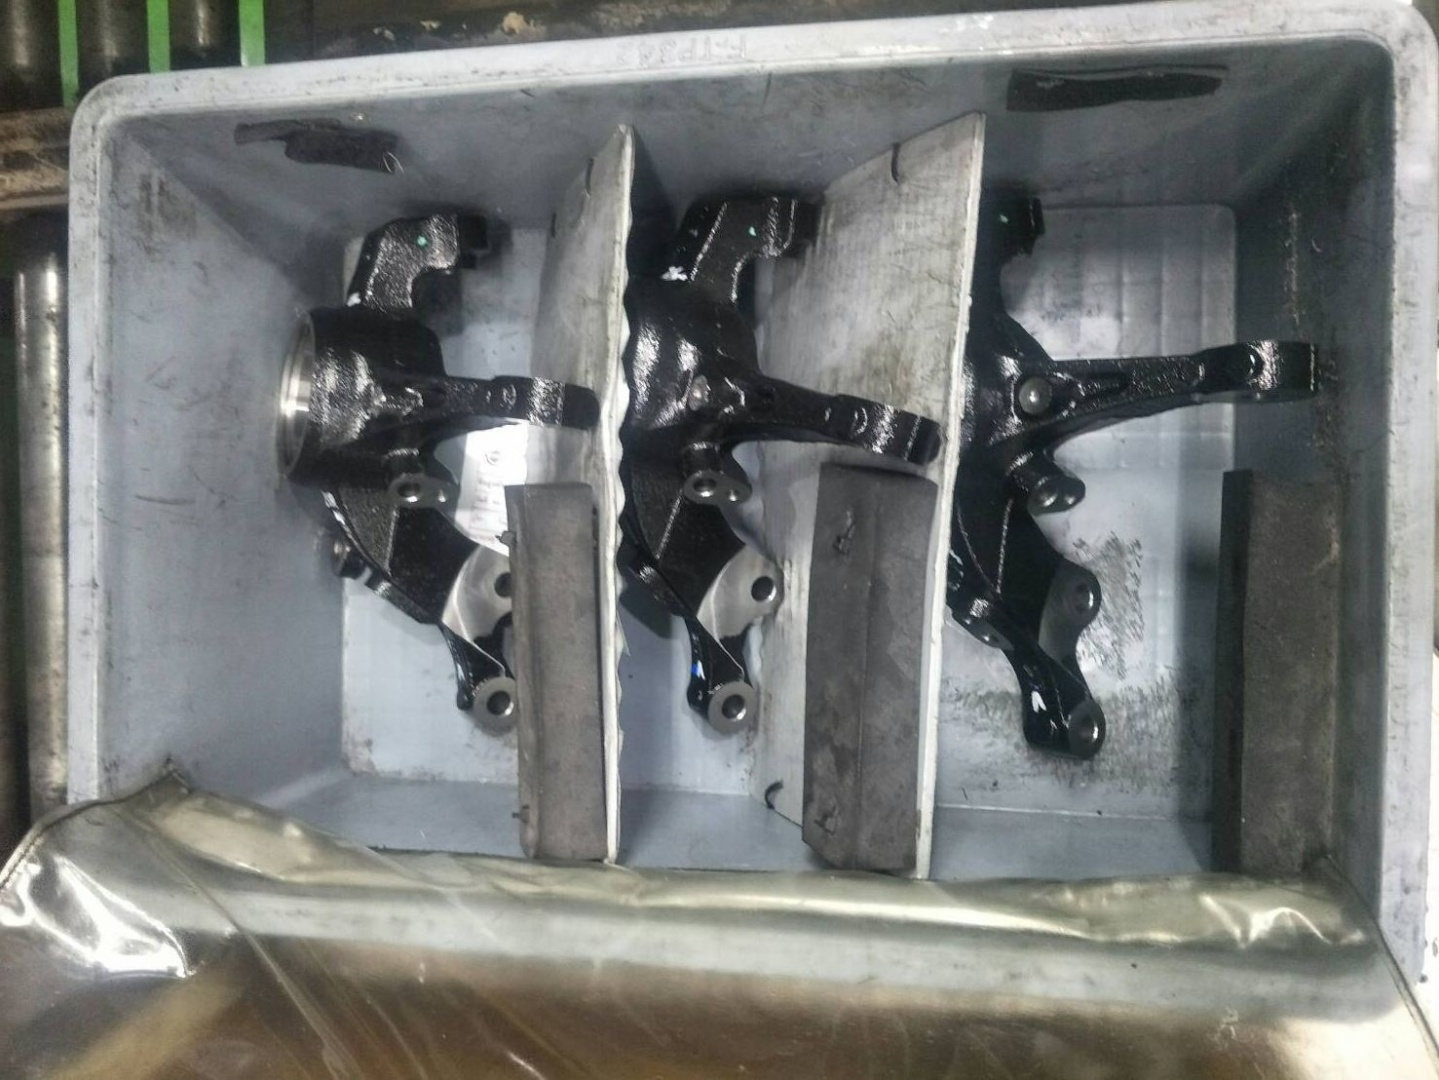abs-rh: (943, 178, 1337, 768), (610, 180, 951, 756), (271, 202, 596, 748)
